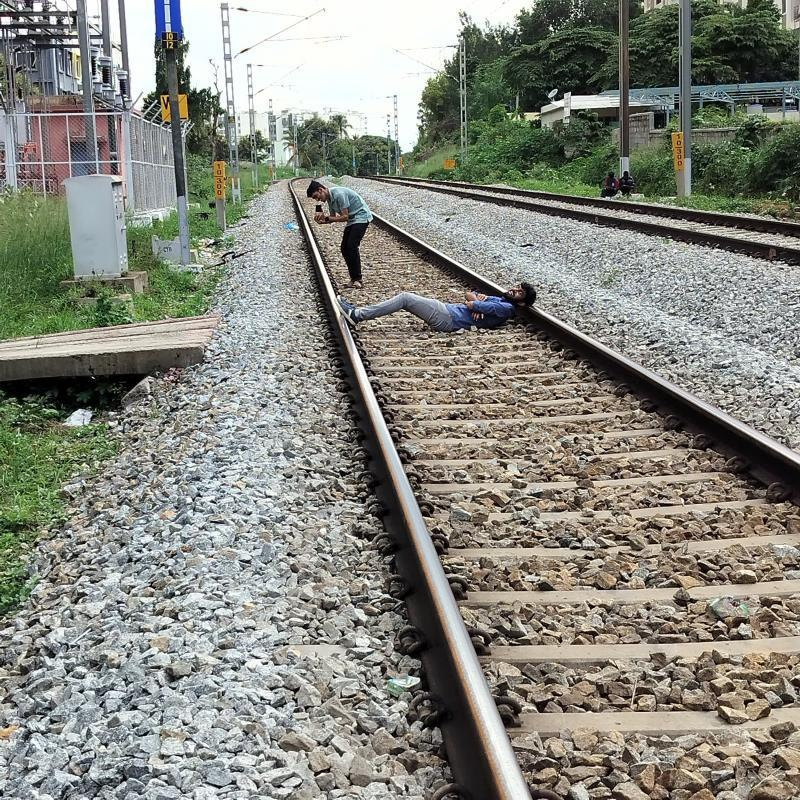sleeping: (325, 282, 543, 332)
